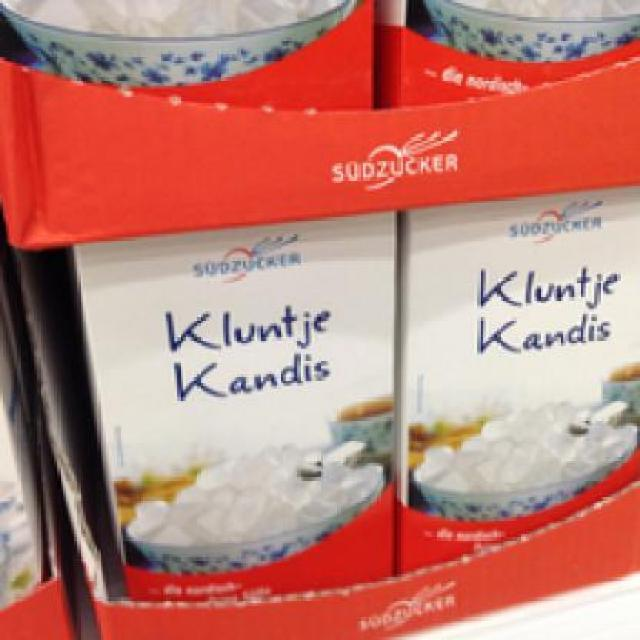Sugar: (68, 206, 394, 594), (397, 186, 637, 574)
